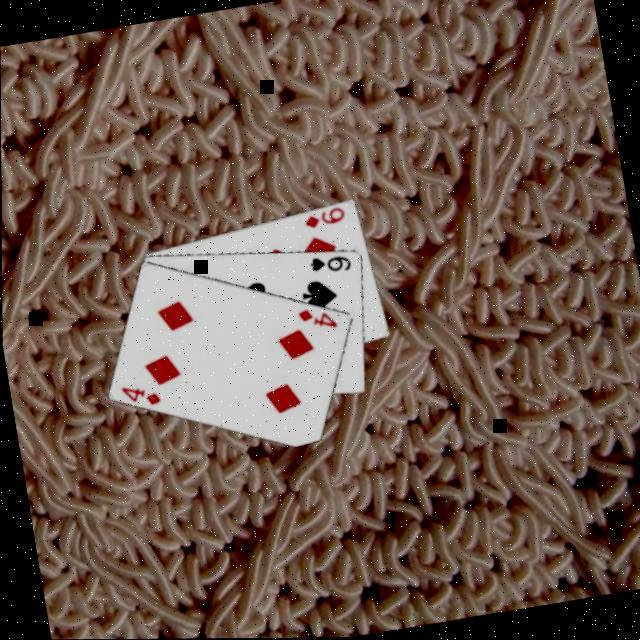4D: (296, 303, 344, 338), (120, 380, 167, 414)
6S: (307, 250, 357, 280)
9D: (302, 205, 352, 234)
